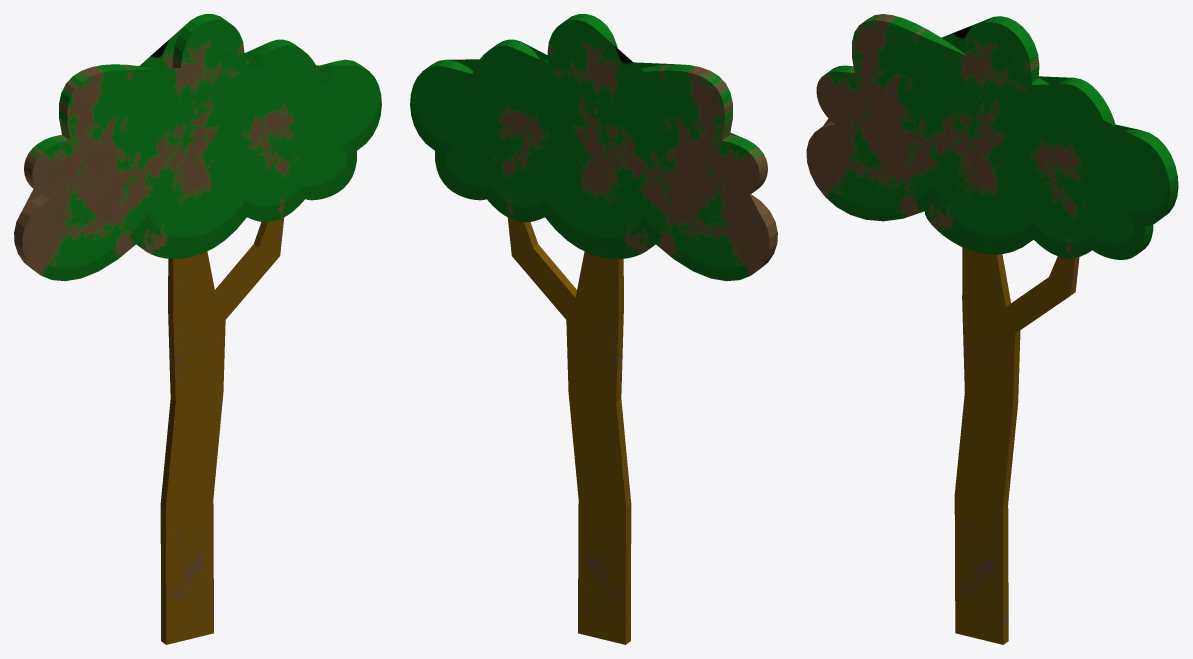
Rendered from Arbol4Junto.fbx.
3 views of the same model, side by side, from view 1: azimuth 30°, elevation 25°; view 2: azimuth 150°, elevation 25°; view 3: azimuth 330°, elevation 25° (orthographic).
Parts seen in each view (by area): view 1: arbol 4; view 2: arbol 4; view 3: arbol 4.
Part boxes in pixels (x1=…): arbol 4: x1=14, y1=14, x2=381, y2=644; arbol 4: x1=410, y1=14, x2=777, y2=644; arbol 4: x1=806, y1=14, x2=1178, y2=644.
Bounding box in the file's own units: 442 × 722 × 17.73.
